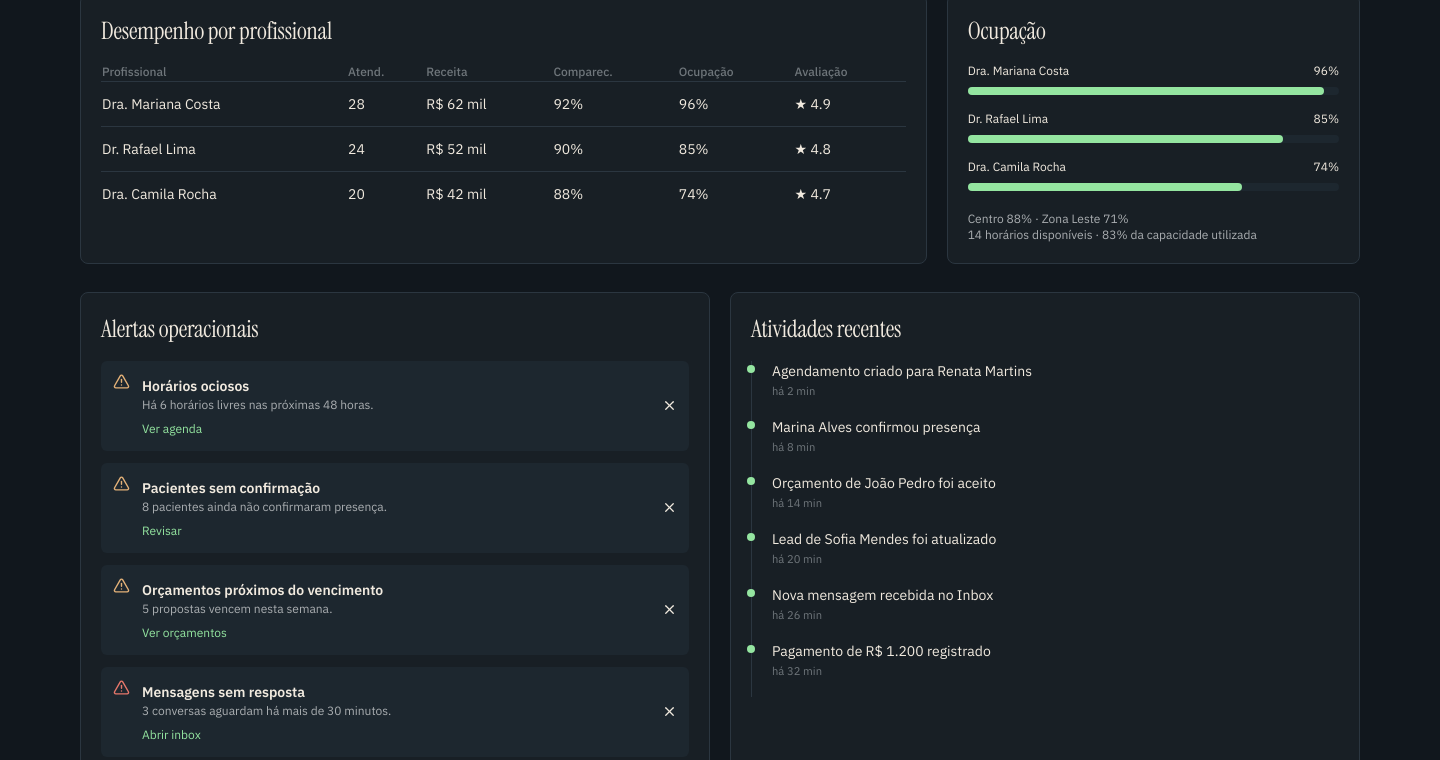
Test: dashboard demonstrativo › dispensa alerta e mostra vazio
The image size is (1440, 760).
(page scrolled)
Click the button named "Dispensar alerta Horários ociosos" at (670, 406), box [662,372,677,438]
(page scrolled)
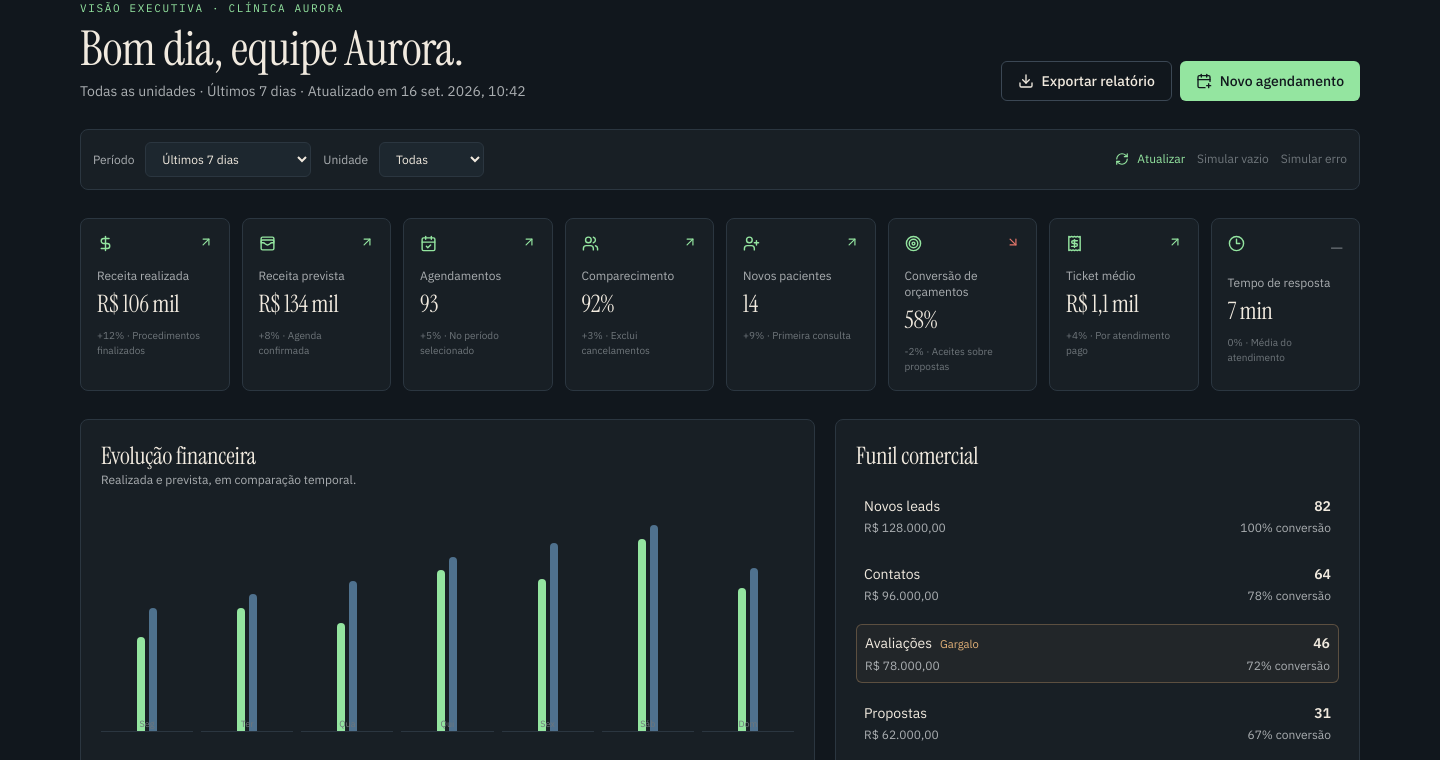
Result: the text "Horários ociosos" is gone
Click the button "Simular vazio" at (1233, 159), box [1197,151,1269,167]
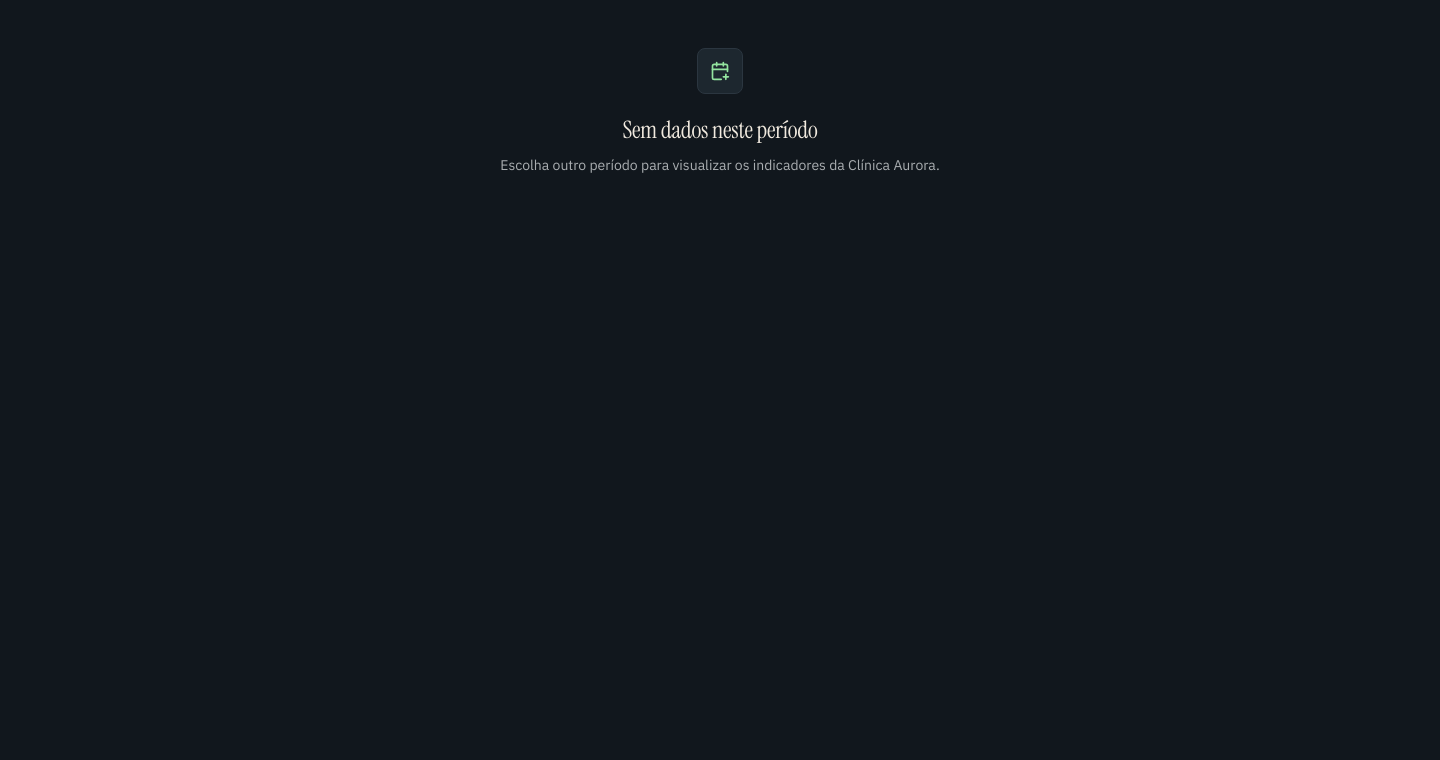
Result: the heading "Sem dados neste período" is shown at [622,114,818,146]
